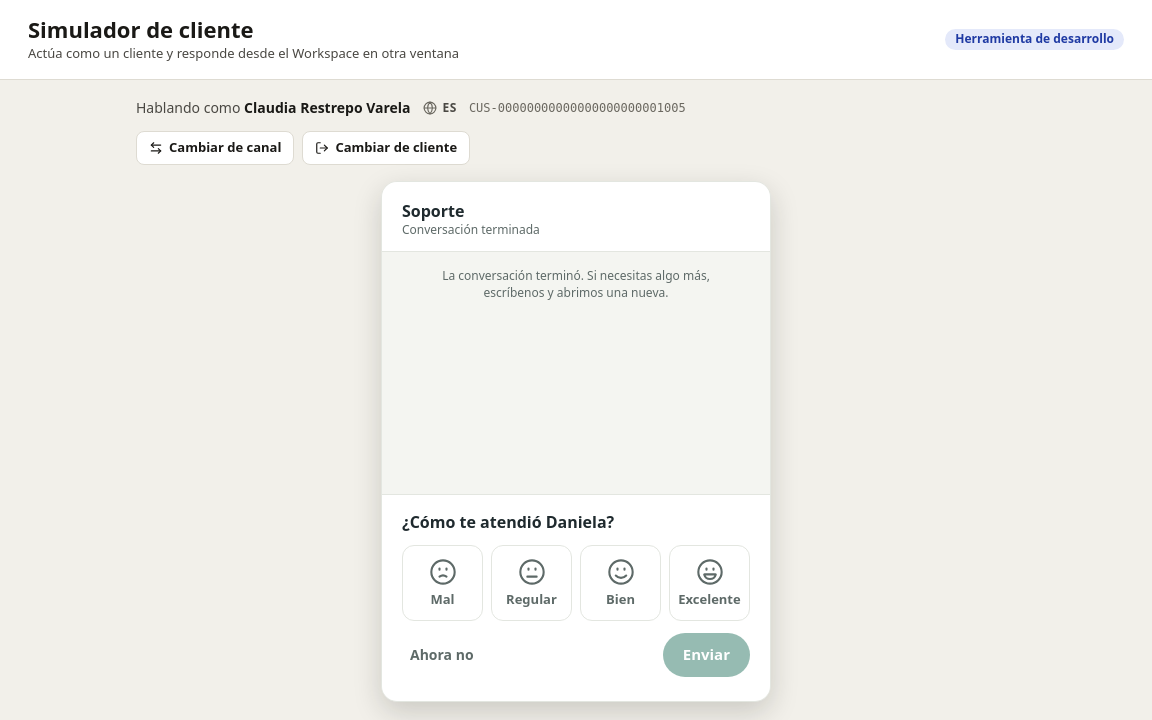
satisfaction survey (slice 7) › asks to pick a face before sending
The image size is (1152, 720).
Expected: the form "¿Cómo te atendió Daniela?" is shown, [382, 494, 770, 701]
Click the button "Enviar" at [706, 655], box [663, 633, 750, 677]
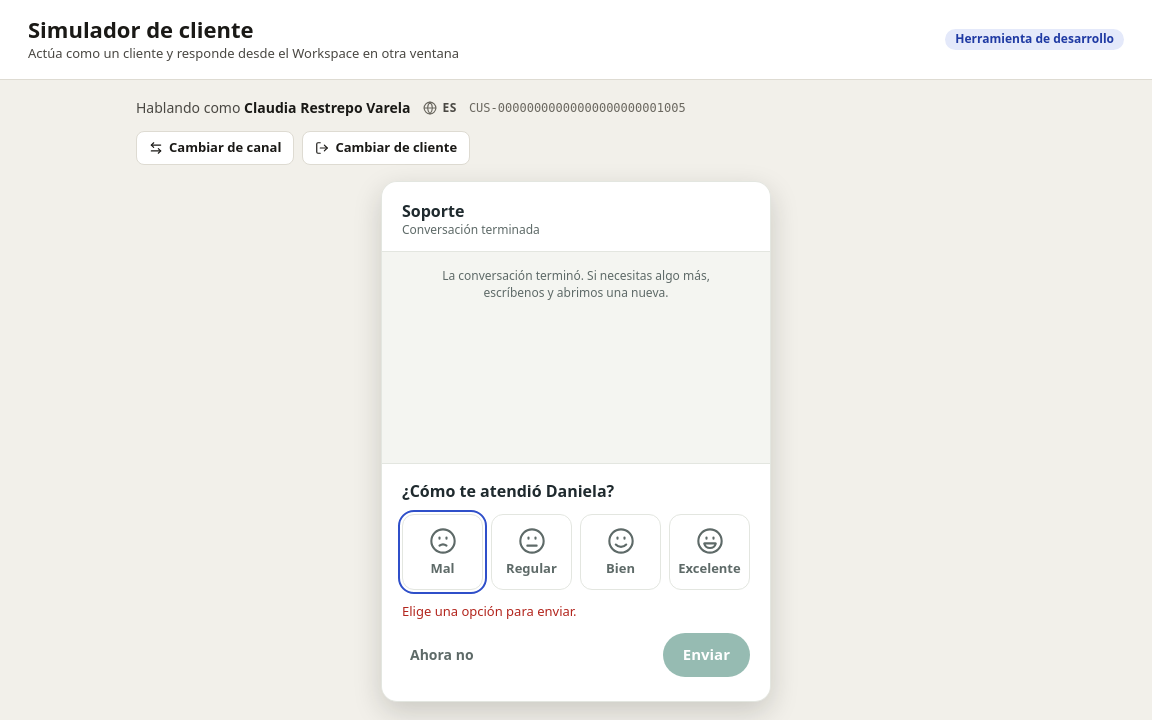
Expected: the message reads "Elige una opción para enviar.", [402, 602, 577, 620]
